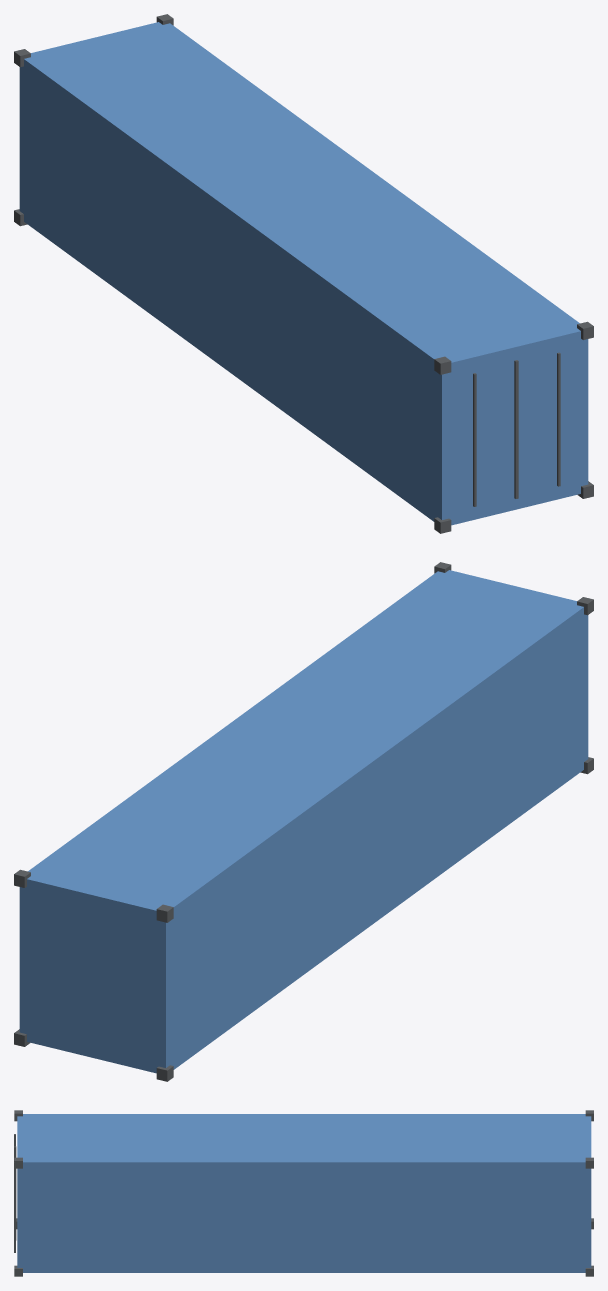
Rendered from container40.glb.
3 renders of one model, top to bottom at view 1: azimuth 30°, elevation 25°; view 2: azimuth 150°, elevation 25°; view 3: azimuth 270°, elevation 25°, orthographic. The views are drawn at different scales.
Size of the model in its own units: 2.56 by 2.71 by 12.32.
